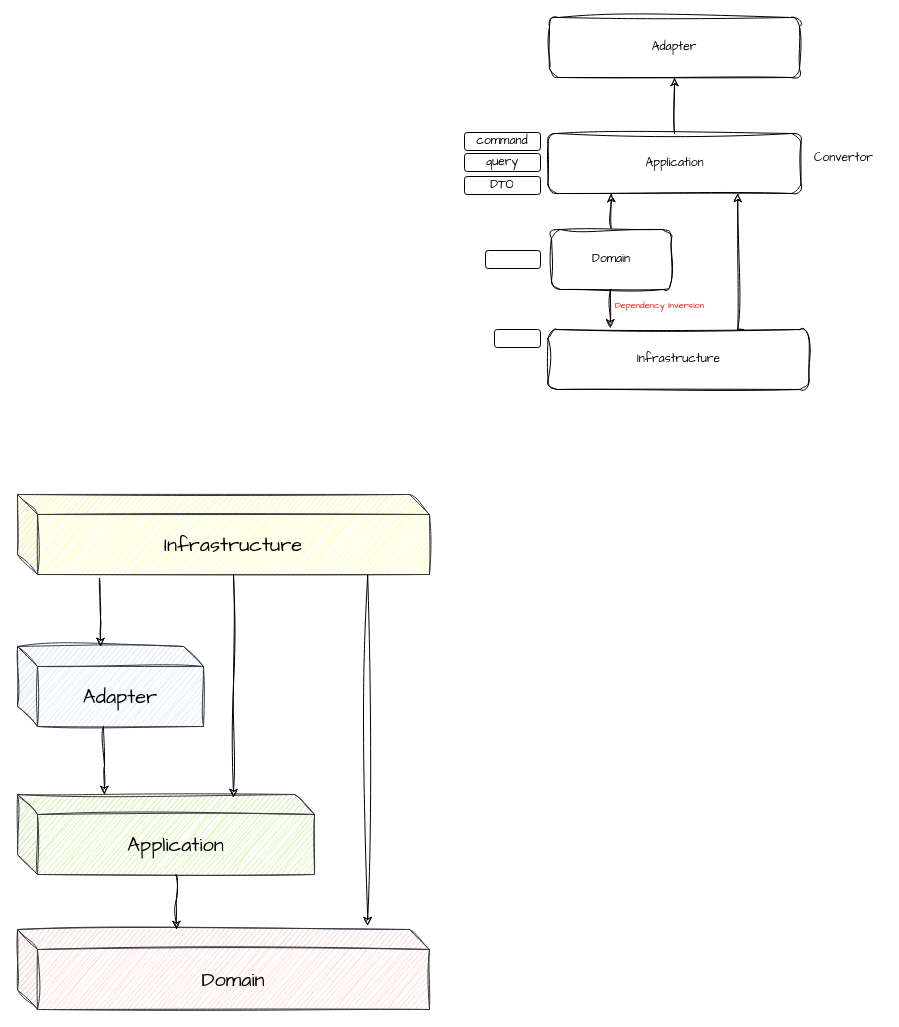
Some shapes in this 899 by 1027 pixel diagram are drawn without their labels. Here are the shapes that lost their labels. From the top down, the box of each, then its label:
(484, 250, 540, 268): Entity
(494, 328, 540, 348): DO
